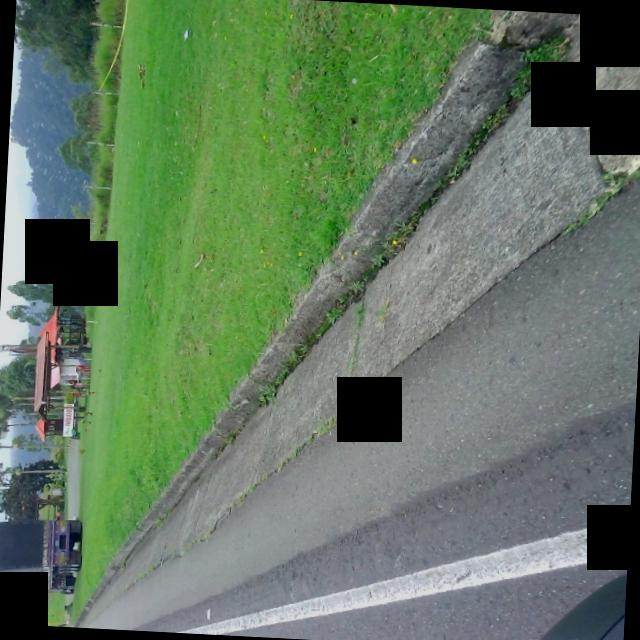DITCH: (14, 0, 640, 640), (36, 0, 640, 640), (72, 0, 640, 640)
